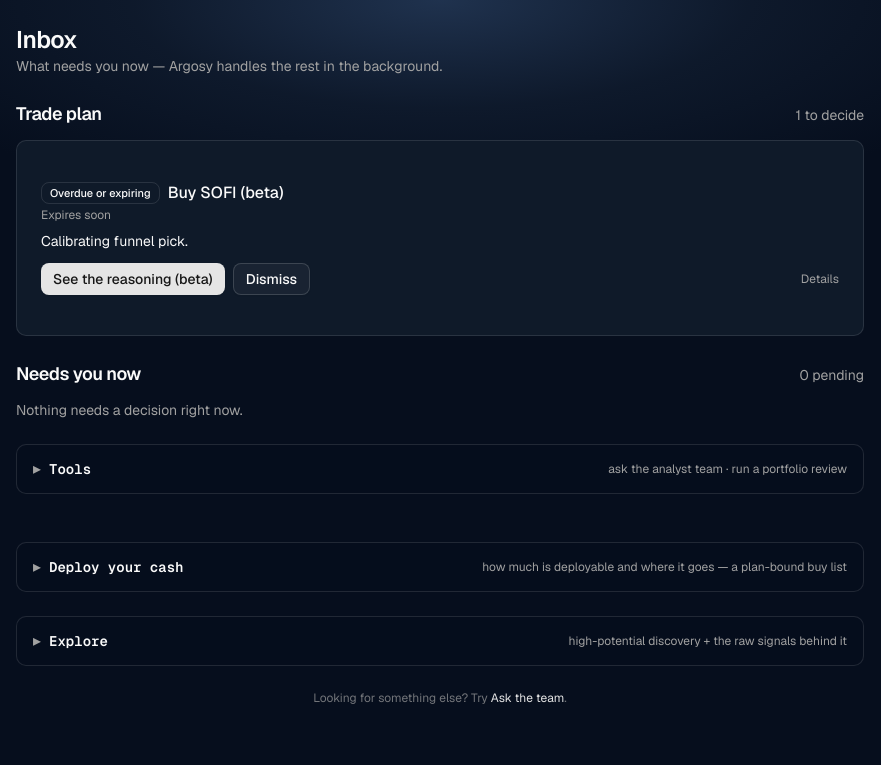
inbox 'Dismiss' on a beta funnel trade › surfaces a reject failure as a visible error
Click the button "Dismiss" at (271, 279), box [233,263,310,295]
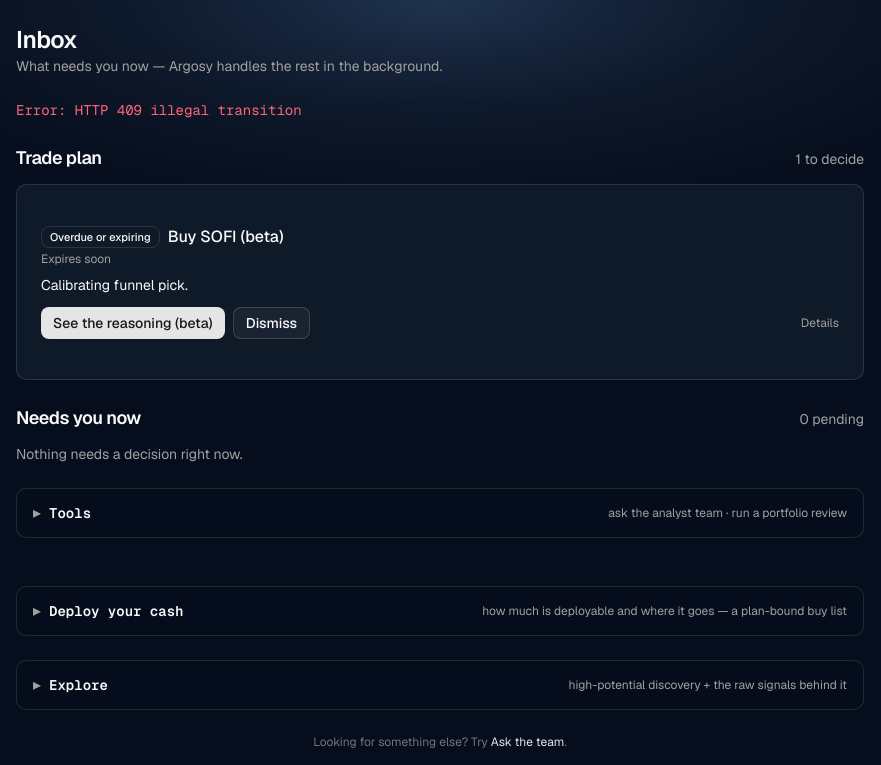
Expected: the text "Error: HTTP 409 illegal transition" is shown, [16,101,302,119]
